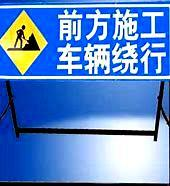sign: (1, 4, 169, 78)
